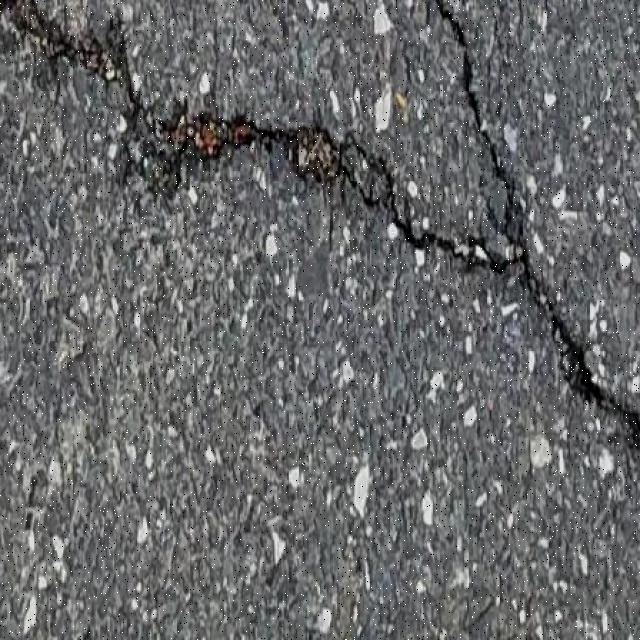Crack: (436, 0, 639, 428), (160, 115, 456, 252), (0, 0, 141, 112)
